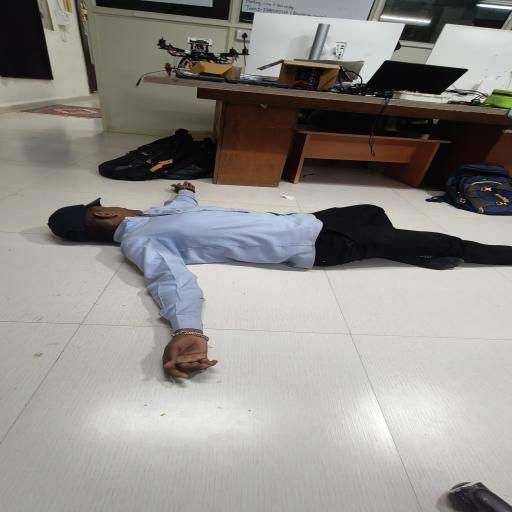survivor: (46, 181, 512, 379)
